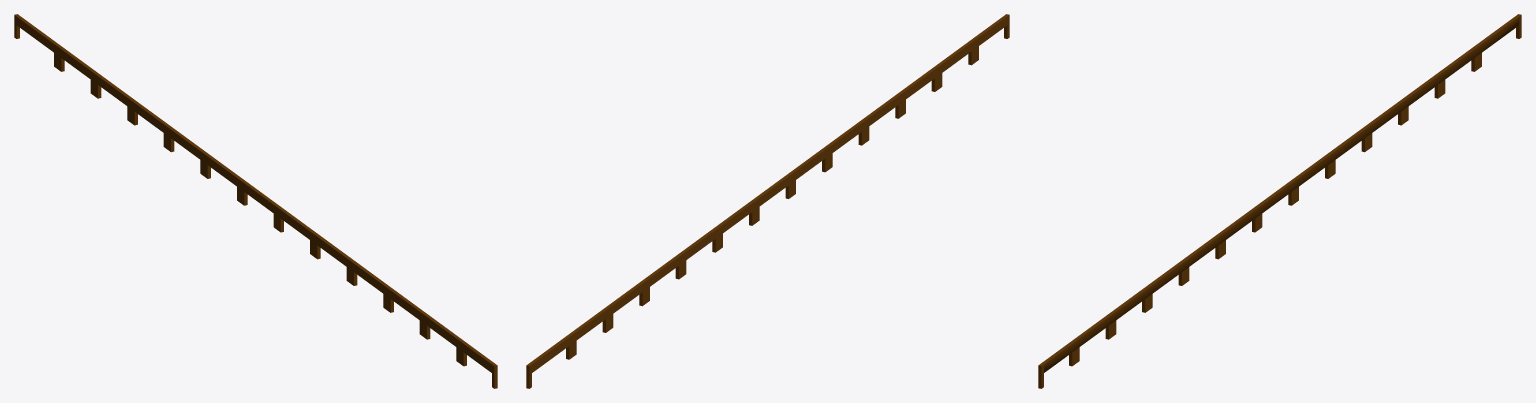
Rendered from Fence_Single.FBX.
3 renders of one model, left to right at view 1: azimuth 30°, elevation 25°; view 2: azimuth 150°, elevation 25°; view 3: azimuth 330°, elevation 25°, orthographic.
Visible parts, largest first — view 1: Fence; view 2: Fence; view 3: Fence.
Part boxes in pixels (x1,y1,x2,y2): Fence: [14, 14, 497, 388]; Fence: [526, 14, 1009, 388]; Fence: [1038, 14, 1521, 388].
Bounding box in the file's own units: 0.1 × 0.65 × 25.
